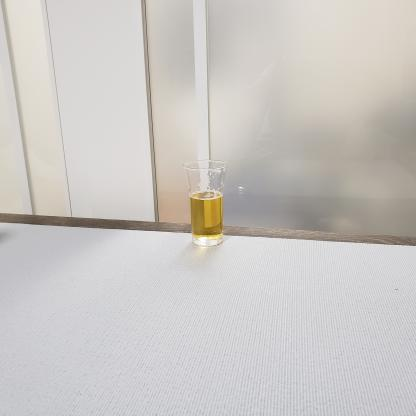glass: (181, 153, 238, 260)
